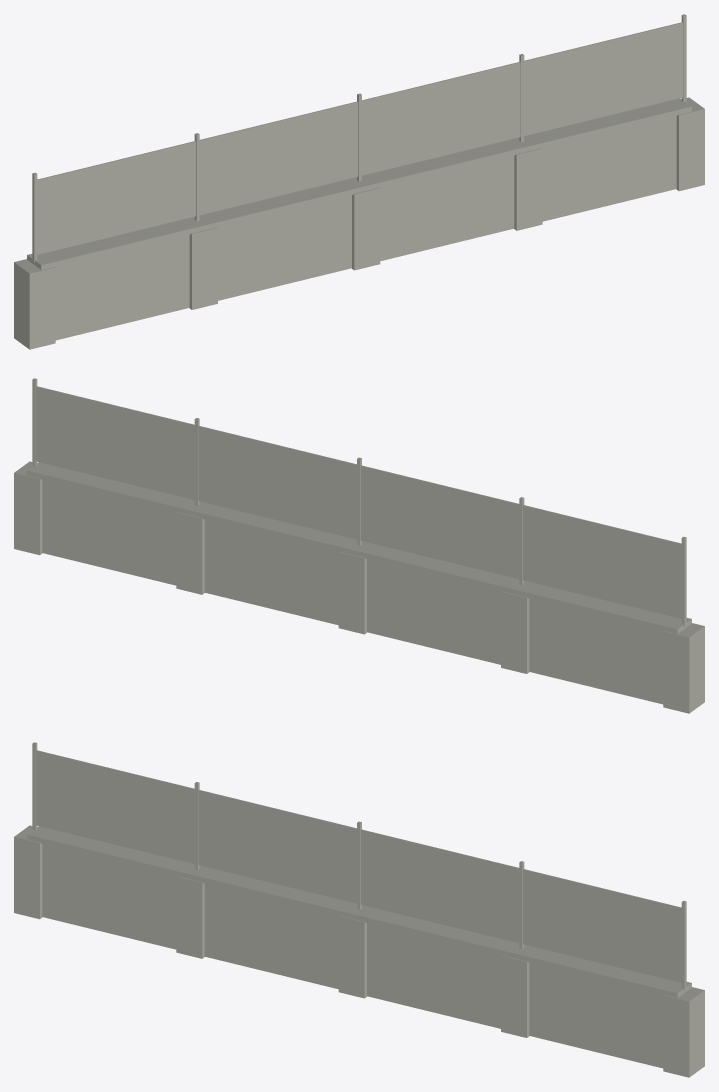
Rendered from SM_Tapia_v2_Bloque_LOD0.fbx.
3 renders of one model, top to bottom at view 1: azimuth 30°, elevation 25°; view 2: azimuth 150°, elevation 25°; view 3: azimuth 330°, elevation 25°, orthographic.
Visible parts, largest first — view 1: SM_huerta_nules_v7_LOD0; view 2: SM_huerta_nules_v7_LOD0; view 3: SM_huerta_nules_v7_LOD0.
Boxes of the visible parts, bbox=[...] form: SM_huerta_nules_v7_LOD0: bbox=[14, 14, 704, 349]; SM_huerta_nules_v7_LOD0: bbox=[14, 378, 704, 713]; SM_huerta_nules_v7_LOD0: bbox=[14, 742, 704, 1077].
Bounding box in the file's own units: 10.4 × 2.46 × 0.42.
